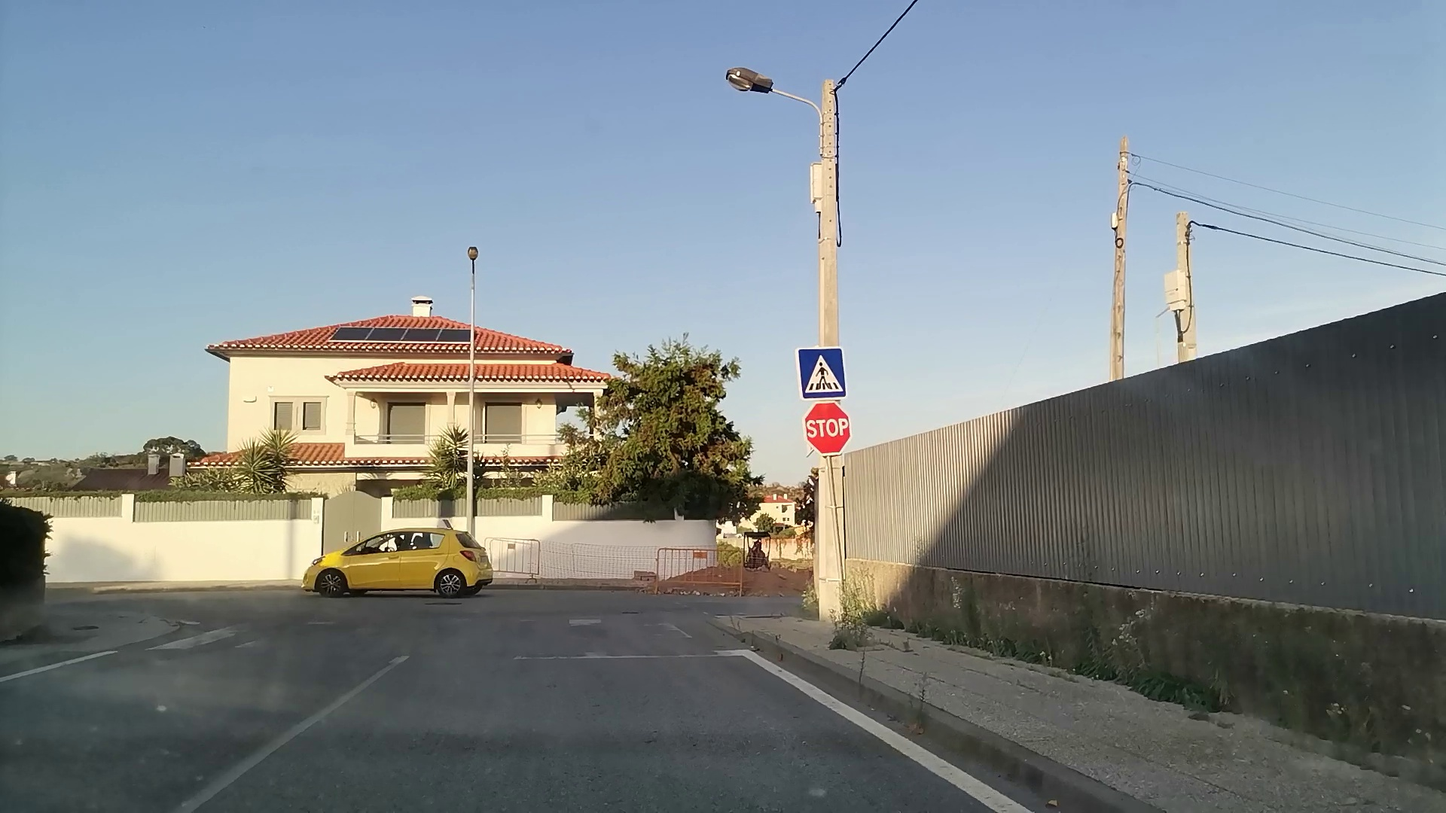Stairs: (151, 610, 727, 655)
